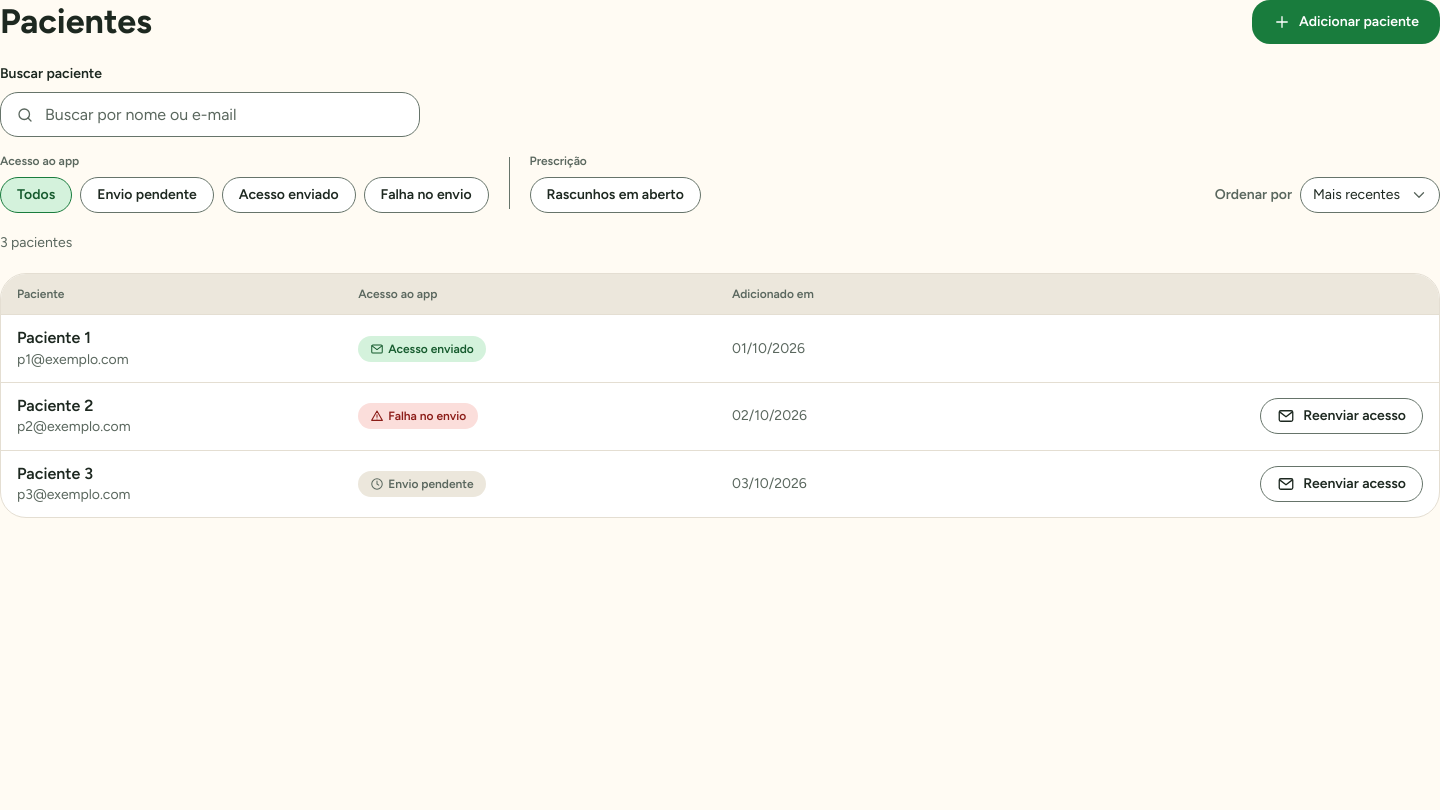
Scenario: Pacientes › oferece reenviar acesso só para envio pendente ou com falha, depois de confirmar
Expected: the table is shown, [1, 274, 1439, 517]
Expected: the button with aria-label "Reenviar acesso para Paciente 3" is shown, [1260, 466, 1423, 502]
Click the button with aria-label "Reenviar acesso para Paciente 2".
click(1342, 416)  # box [1260, 398, 1423, 434]
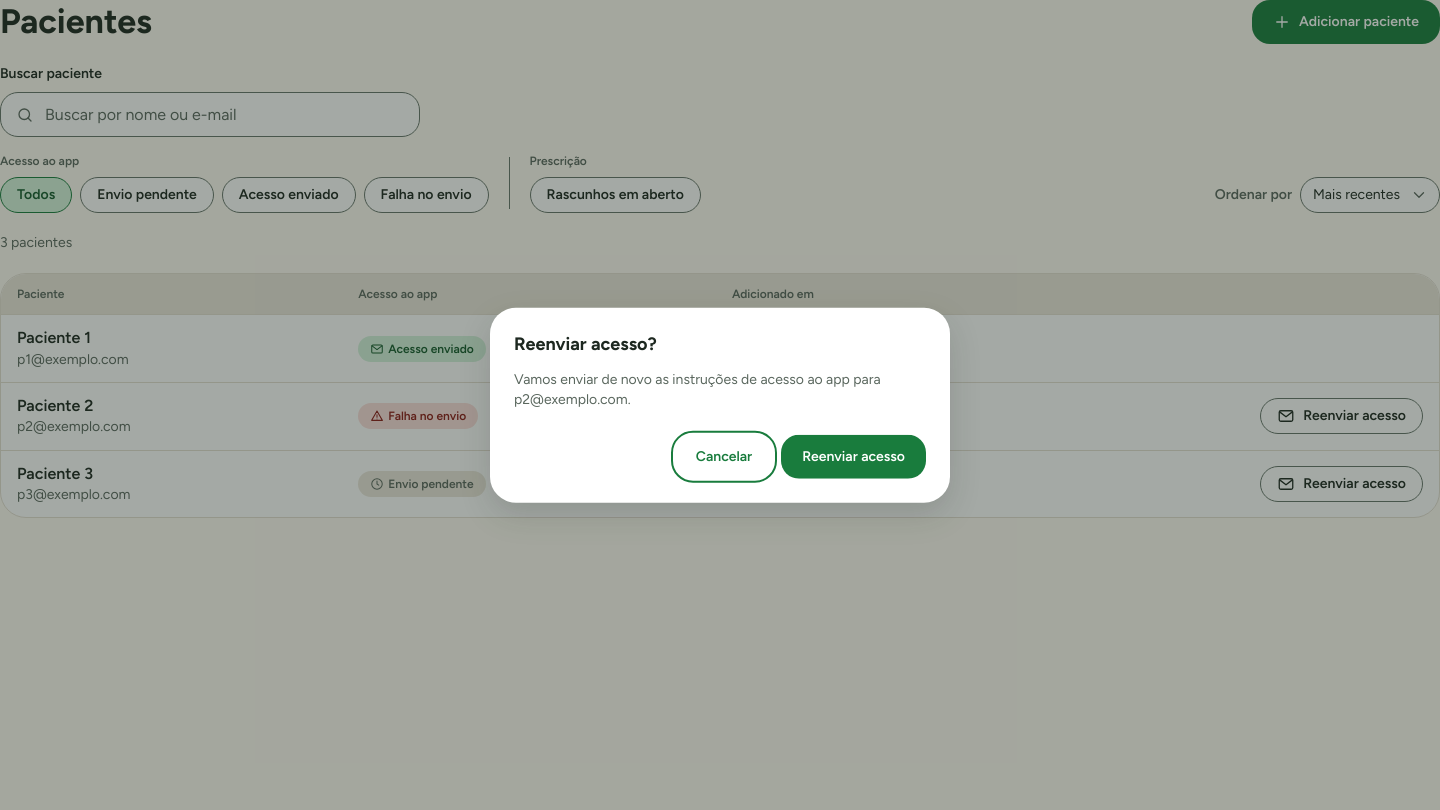
Click the button "Reenviar acesso".
click(854, 456)  # box [781, 434, 926, 478]
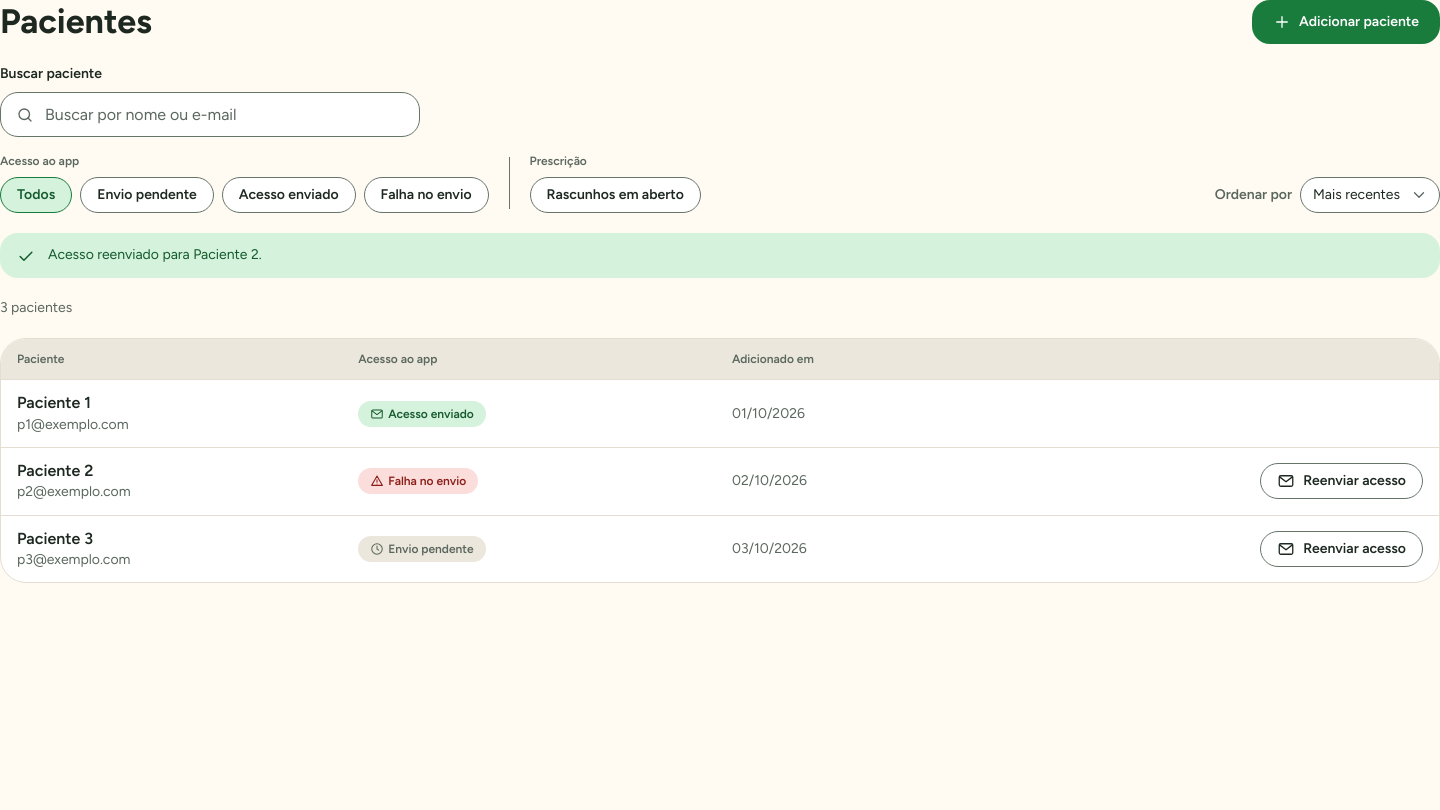
Expected: the text "Acesso reenviado para Paciente 2." is shown, [48, 246, 262, 263]
